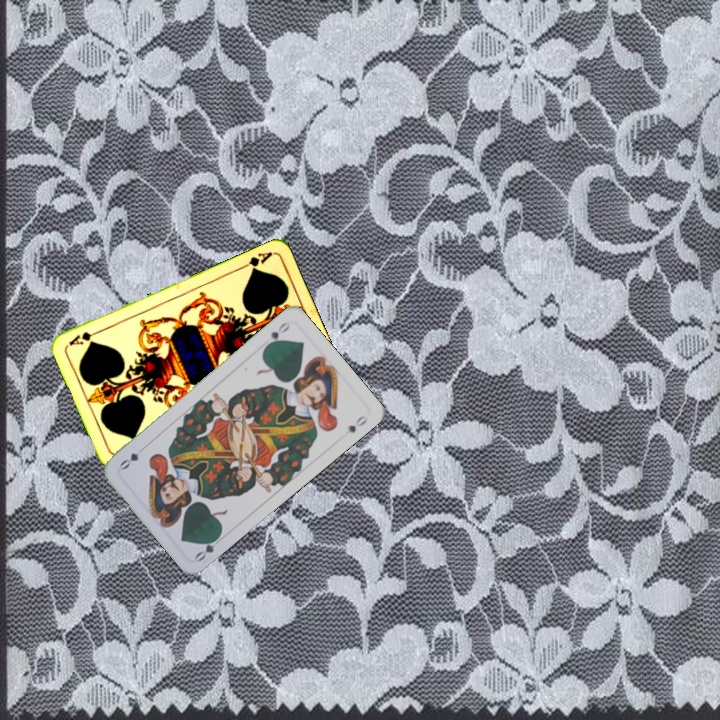GA: (237, 248, 275, 274)
GO: (191, 530, 226, 564), (261, 318, 293, 350)
